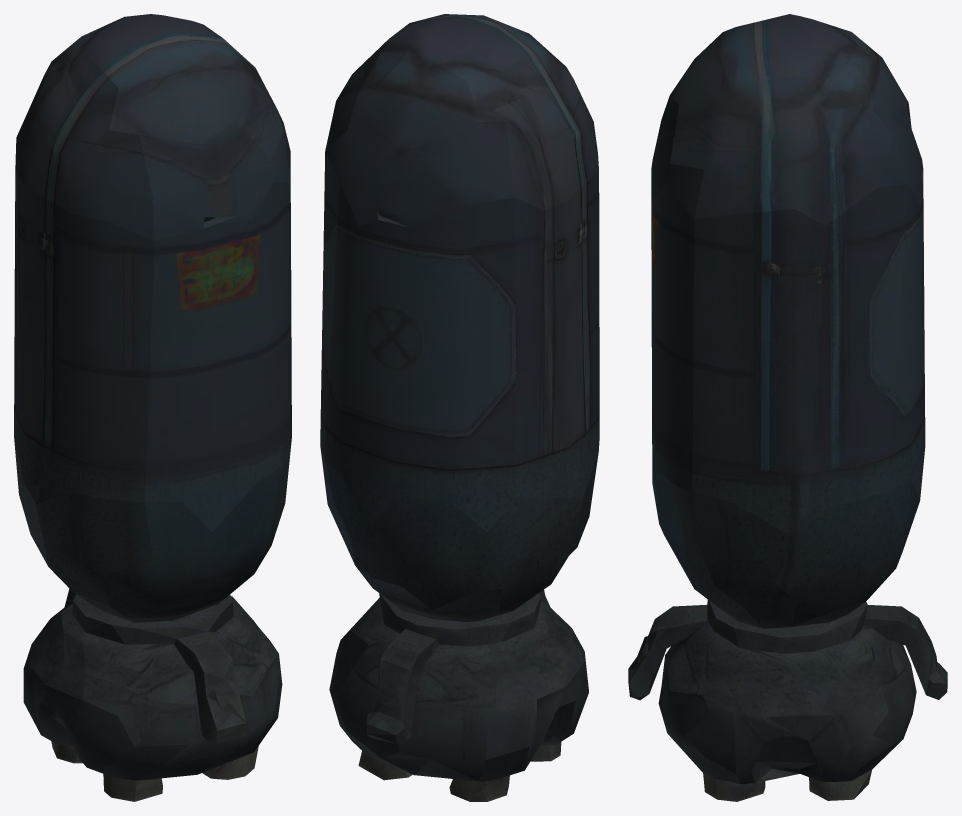
File: BS_Player_CapsulePawn_final.glb
3 renders of one model, left to right at view 1: azimuth 30°, elevation 25°; view 2: azimuth 150°, elevation 25°; view 3: azimuth 270°, elevation 25°, orthographic.
Bounding box in the file's own units: 0.6518 × 1.89 × 0.7427.
1 material, 1 textured.
